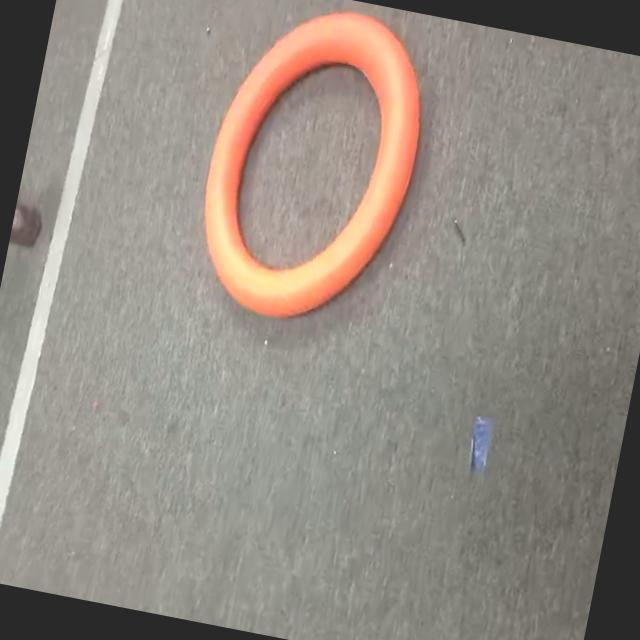note: (167, 0, 459, 366)
